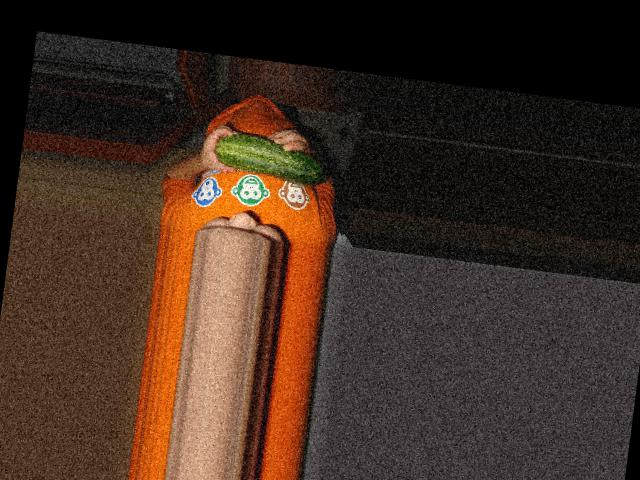cucumber: (211, 130, 330, 187)
